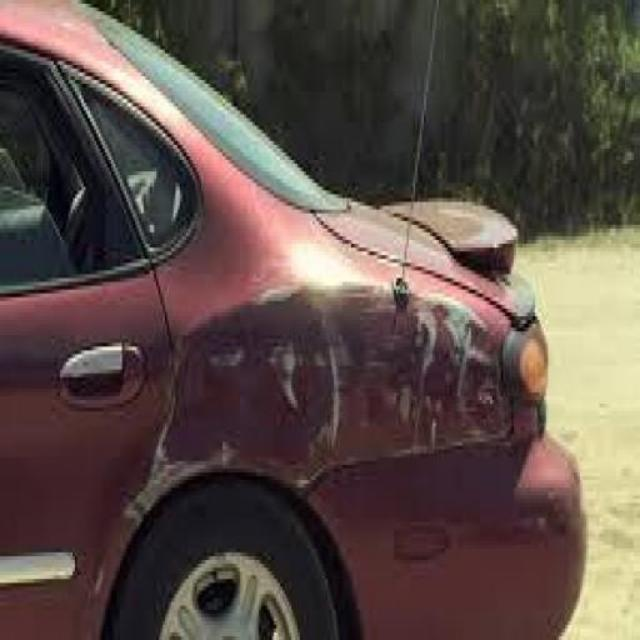rub: (99, 281, 530, 604)
